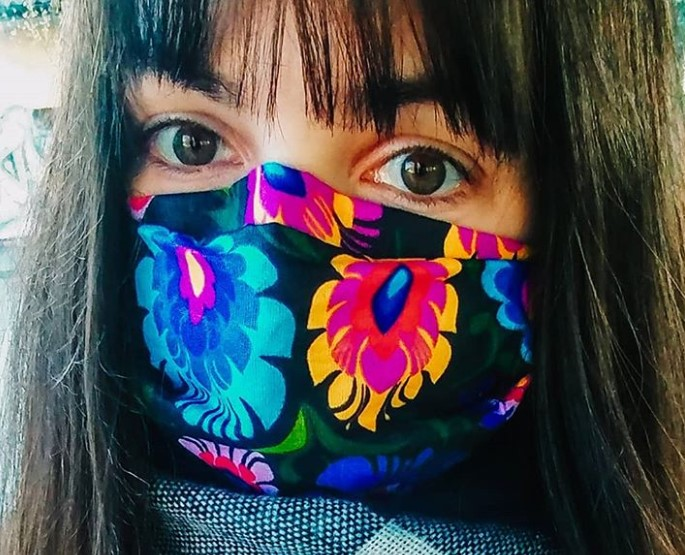face_with_mask: (61, 6, 616, 512)
